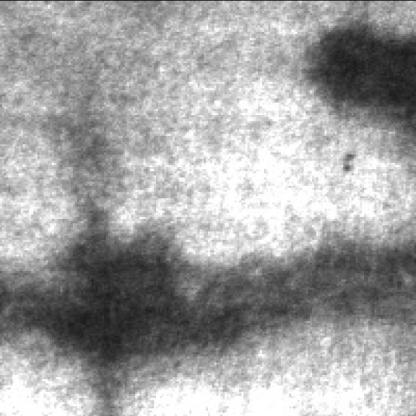patches: (0, 225, 414, 370), (306, 19, 414, 116)
